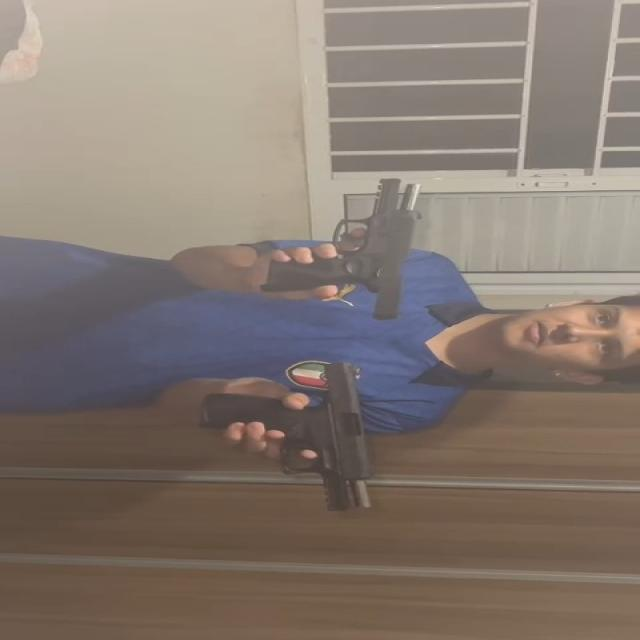gun: (202, 362, 376, 512), (253, 174, 427, 319)
